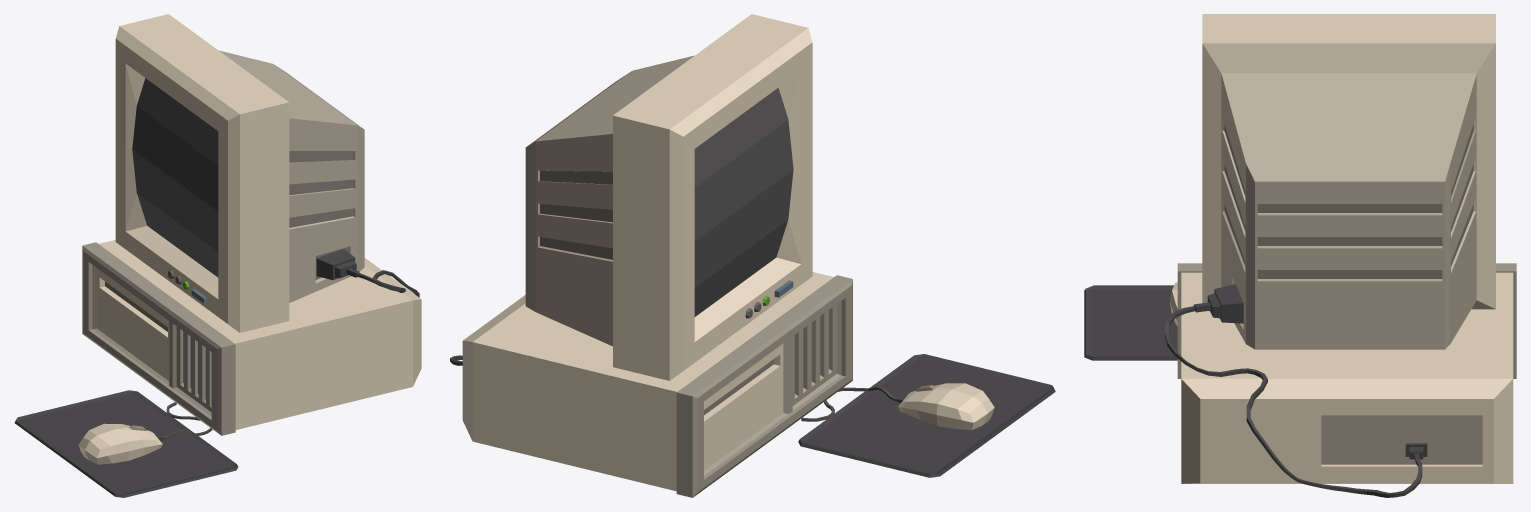
The model's file is RetroCom.fbx.
3 views of the same model, side by side, from view 1: azimuth 30°, elevation 25°; view 2: azimuth 150°, elevation 25°; view 3: azimuth 270°, elevation 25° (orthographic). The views are drawn at different scales.
Parts seen in each view (by area): view 1: Monitor.002, Computer.002, MouseMat.002, Mouse.002, Cable.002; view 2: Monitor.002, Computer.002, MouseMat.002, Mouse.002; view 3: Monitor.002, Computer.002, MouseMat.002, Cable.002.
Part boxes in pixels (<box>): Monitor.002: <box>115,14,364,332</box>; Computer.002: <box>82,240,421,435</box>; MouseMat.002: <box>14,390,238,497</box>; Mouse.002: <box>78,402,212,464</box>; Cable.002: <box>316,249,419,297</box>; Monitor.002: <box>525,14,812,380</box>; Computer.002: <box>462,272,852,497</box>; MouseMat.002: <box>798,354,1055,477</box>; Mouse.002: <box>801,383,994,429</box>; Monitor.002: <box>1202,14,1495,349</box>; Computer.002: <box>1177,263,1516,483</box>; MouseMat.002: <box>1084,285,1177,360</box>; Cable.002: <box>1165,284,1427,497</box>.
Bounding box in the file's own units: 114 × 84 × 87.68.
